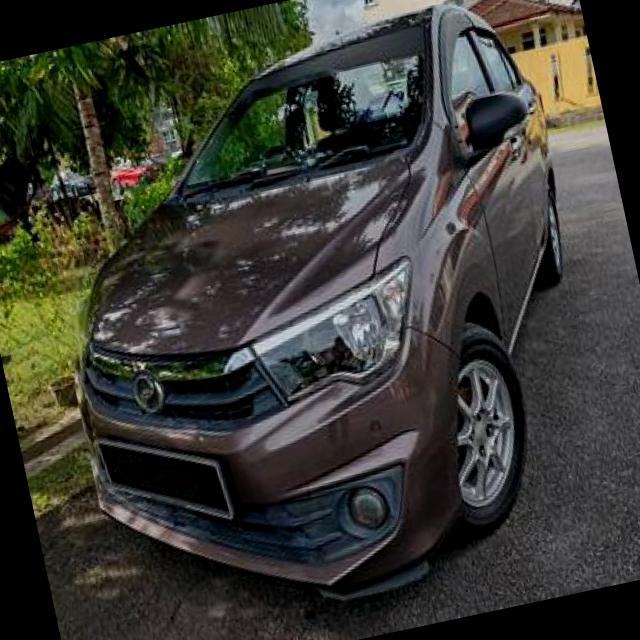PeroduaBezza: (7, 0, 635, 640)
